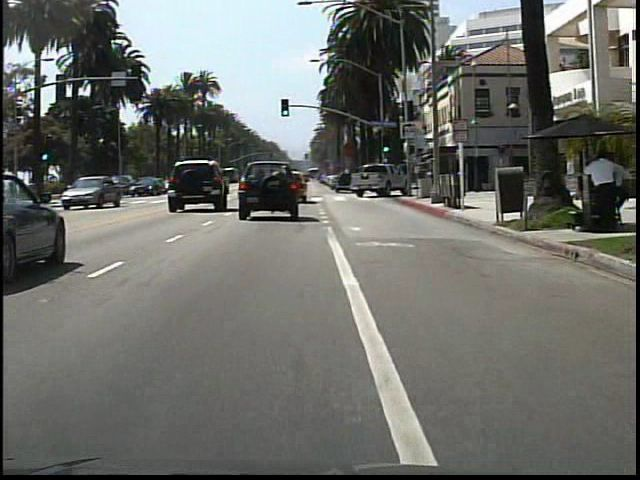person: (583, 147, 618, 234)
